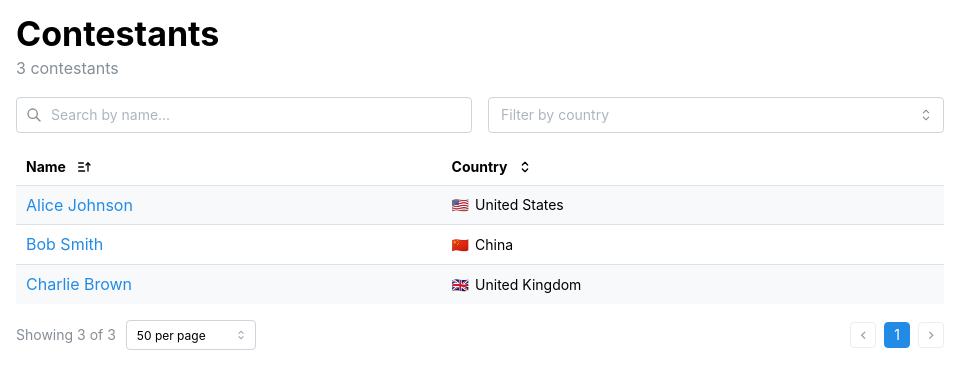
Contestants › search functionality › shows all contestants when search is cleared
Type "Alice" into the field with placeholder "Search by name...". click: (244, 115)
box: x1=16 y1=97 x2=472 y2=133
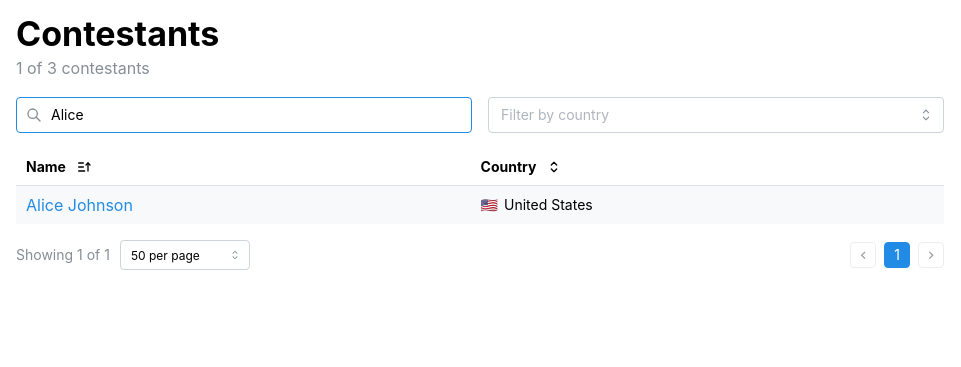
Clear the 1st field with placeholder "Search by name...". click: (244, 115)
box: x1=16 y1=97 x2=472 y2=133
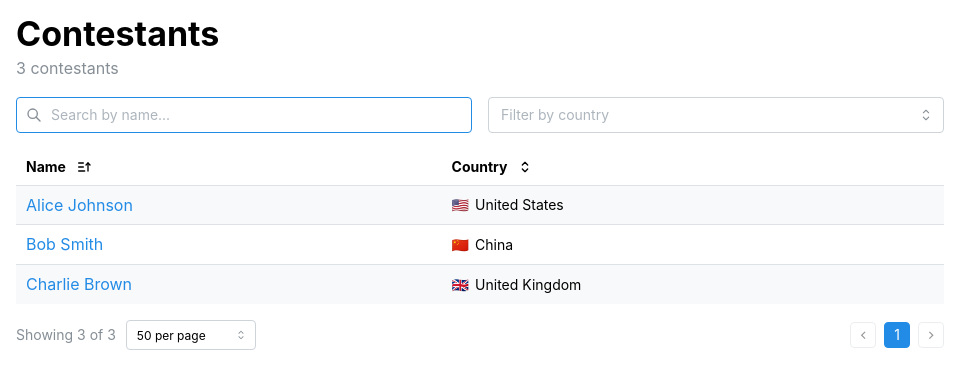
expect the text "3 contestants" is shown: met, box x1=16 y1=58 x2=119 y2=78
expect the link "Bob Smith" is shown: met, box x1=26 y1=234 x2=103 y2=254
